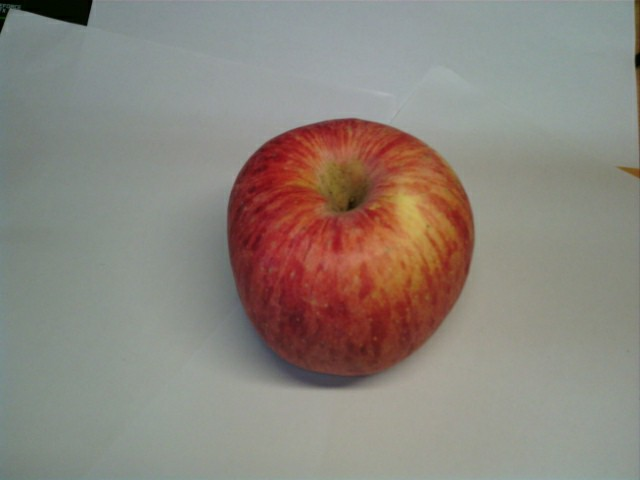normal_apple: (225, 116, 475, 377)
